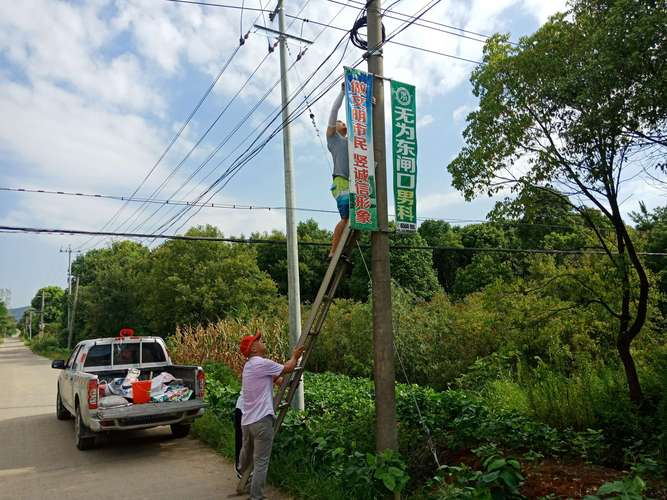安全帽、安全绳，工作服均未佩戴的工作人员: (325, 80, 360, 266)
安全帽、工作服均未穿戴的工作人员: (231, 325, 306, 500)
